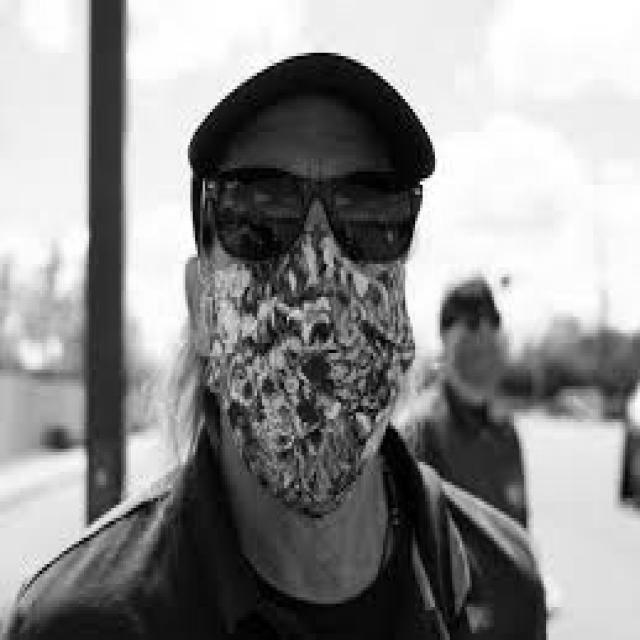fake: (207, 236, 411, 512), (197, 163, 425, 264)
